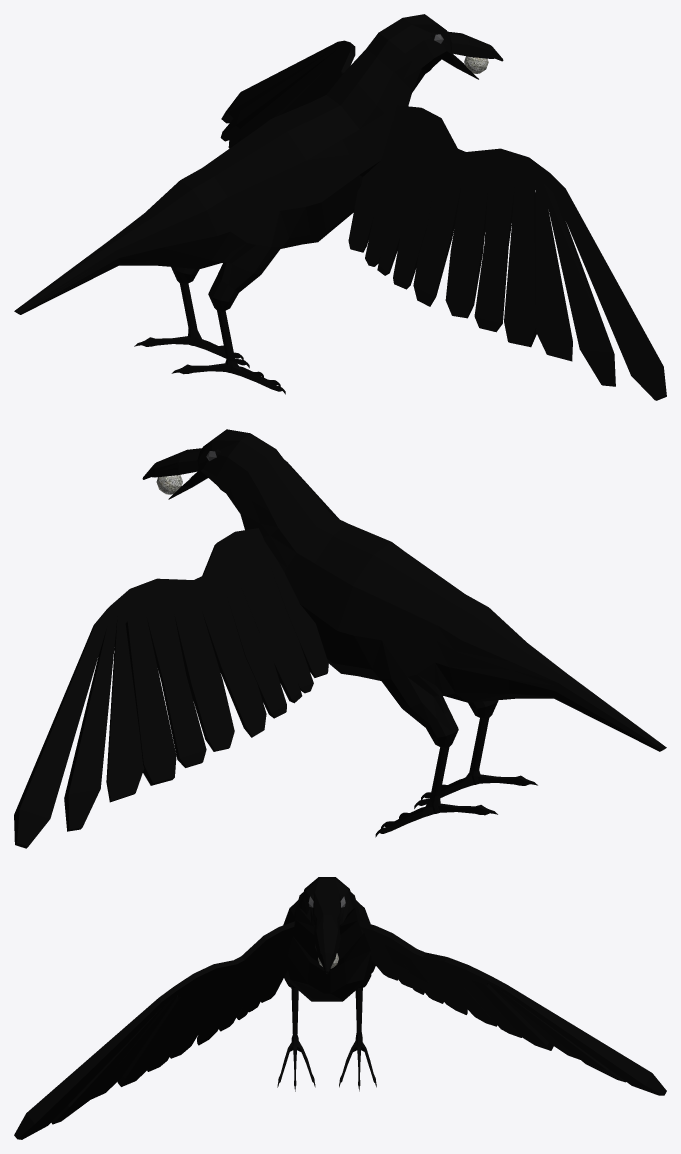
File: crow_up_stone_000003.obj
3 renders of one model, top to bottom at view 1: azimuth 30°, elevation 25°; view 2: azimuth 150°, elevation 25°; view 3: azimuth 270°, elevation 25°, orthographic. The views are drawn at different scales.
Visible parts, largest first — view 1: Cylinder; view 2: Cylinder; view 3: Cylinder.
Part boxes in pixels (<box>): Cylinder: <box>14,14,666,400</box>; Cylinder: <box>14,429,666,848</box>; Cylinder: <box>14,877,666,1139</box>.
Size of the model in its own units: 1.57 by 0.9777 by 2.11.
